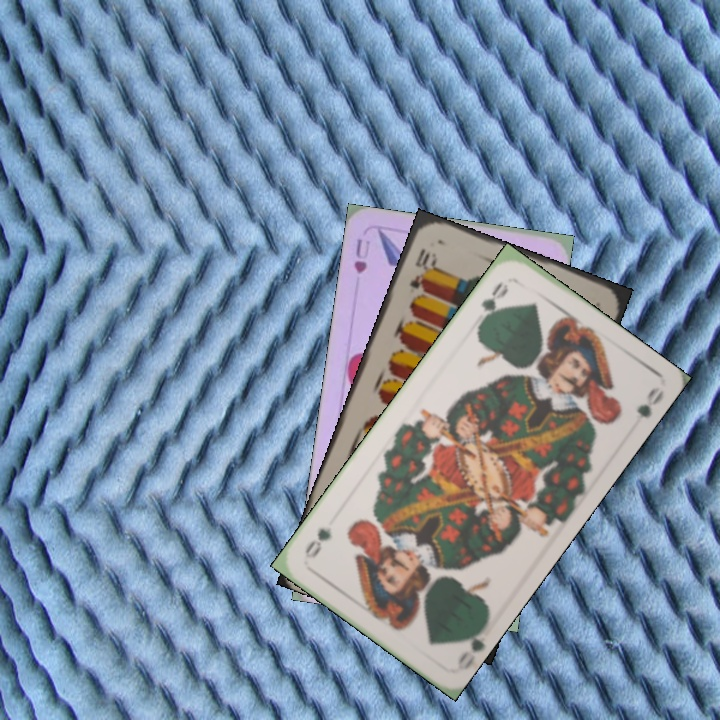E10: (405, 244, 438, 292)
GO: (453, 618, 490, 670), (476, 277, 512, 327)
HU: (350, 234, 373, 277)
